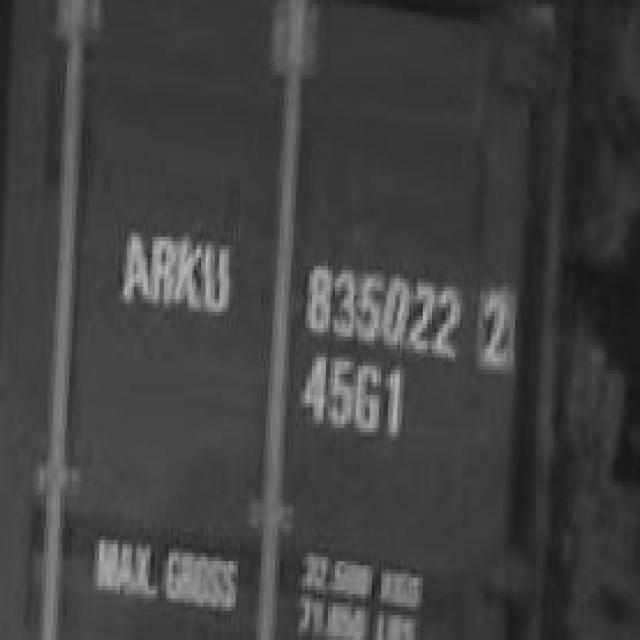dv: (479, 284, 522, 378)
owner: (106, 213, 236, 324)
serial: (302, 246, 465, 356)
size: (294, 348, 407, 452)
